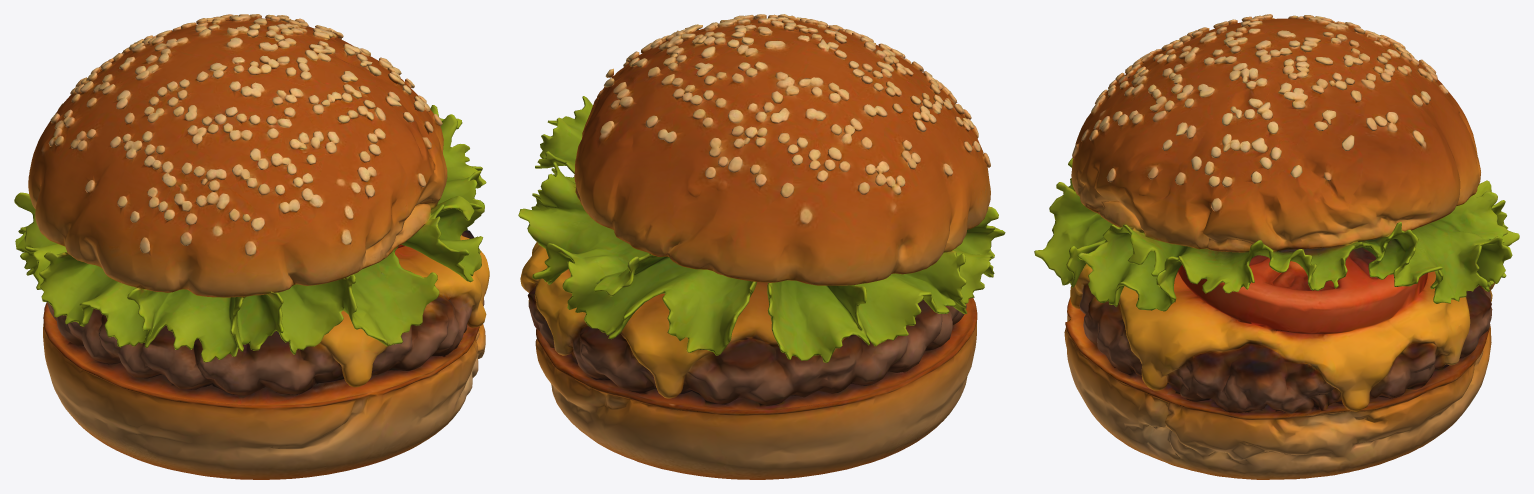
The model's file is hamburguer-exemplo.glb.
3 renders of one model, left to right at view 1: azimuth 30°, elevation 25°; view 2: azimuth 150°, elevation 25°; view 3: azimuth 270°, elevation 25°, orthographic. The views are drawn at different scales.
Visible parts, largest first — view 1: tripo_node_9c2fedb1-1be9-4c2d-a285-7558ad163aca; view 2: tripo_node_9c2fedb1-1be9-4c2d-a285-7558ad163aca; view 3: tripo_node_9c2fedb1-1be9-4c2d-a285-7558ad163aca.
Boxes of the visible parts, x1,y1,x2,y2 form: tripo_node_9c2fedb1-1be9-4c2d-a285-7558ad163aca: (14, 14, 489, 479); tripo_node_9c2fedb1-1be9-4c2d-a285-7558ad163aca: (518, 14, 1005, 479); tripo_node_9c2fedb1-1be9-4c2d-a285-7558ad163aca: (1034, 14, 1519, 479).
Size of the model in its own units: 0.1271 by 0.1087 by 0.13.
1 material, 1 textured.
